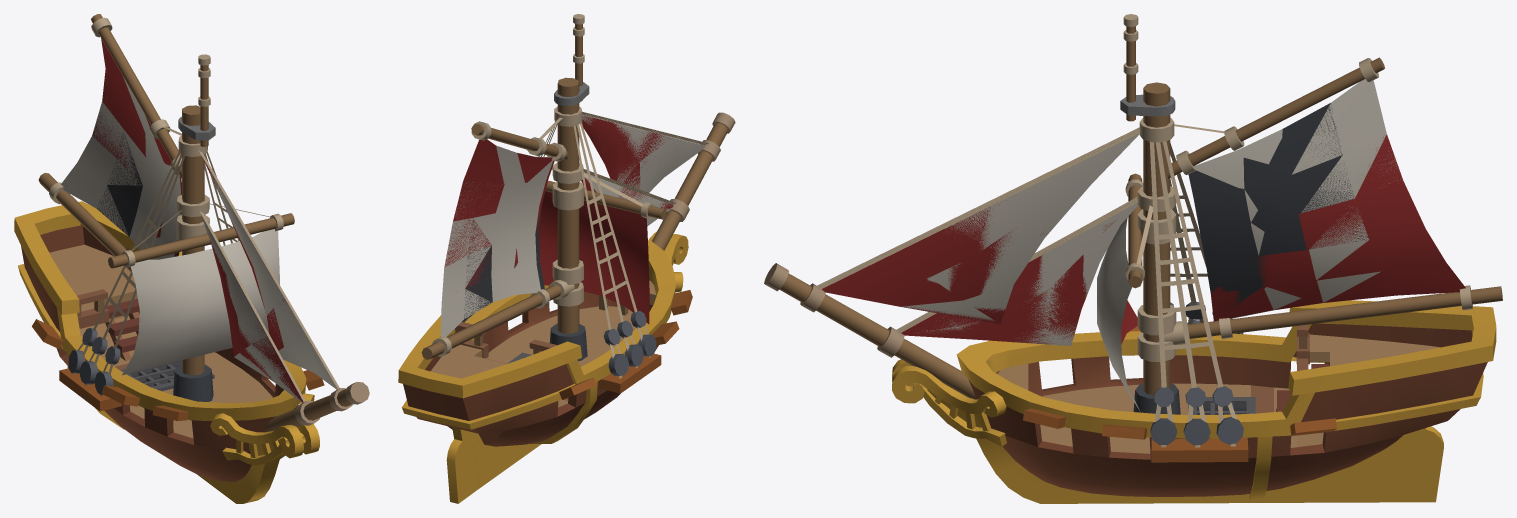
The model's file is Sloop.fbx.
3 views of the same model, side by side, from view 1: azimuth 30°, elevation 25°; view 2: azimuth 150°, elevation 25°; view 3: azimuth 270°, elevation 25° (orthographic). The views are drawn at different scales.
Visible parts, largest first — view 1: Sloop, Sails_White, Sails_Red, Upgrade_01, Sails_Black, Upgarde_02; view 2: Sloop, Sails_Red, Sails_White, Rudder, Upgarde_02, Sails_Black, Upgrade_01; view 3: Sloop, Sails_Red, Sails_White, Sails_Black, Upgrade_01, Rudder, Upgarde_02.
Part boxes in pixels (box(x1,y1,x2,y2)): Sloop: box(14, 14, 369, 503); Sails_White: box(61, 77, 337, 402); Sails_Red: box(92, 38, 303, 402); Upgrade_01: box(210, 393, 319, 465); Sails_Black: box(97, 133, 179, 256); Upgarde_02: box(18, 264, 62, 348); Sloop: box(398, 14, 735, 487); Sails_Red: box(444, 115, 673, 324); Sails_White: box(441, 115, 705, 337); Rudder: box(446, 427, 479, 503); Upgarde_02: box(402, 384, 575, 429); Sails_Black: box(464, 205, 544, 318); Upgrade_01: box(649, 231, 688, 292); Sloop: box(764, 14, 1502, 503); Sails_Red: box(822, 134, 1465, 344); Sails_White: box(901, 79, 1402, 411); Sails_Black: box(1188, 103, 1367, 310); Upgrade_01: box(892, 359, 1006, 446); Rudder: box(1383, 426, 1443, 502); Upgarde_02: box(1291, 357, 1483, 435).
Size of the model in its own units: 367 by 751 by 1041.
